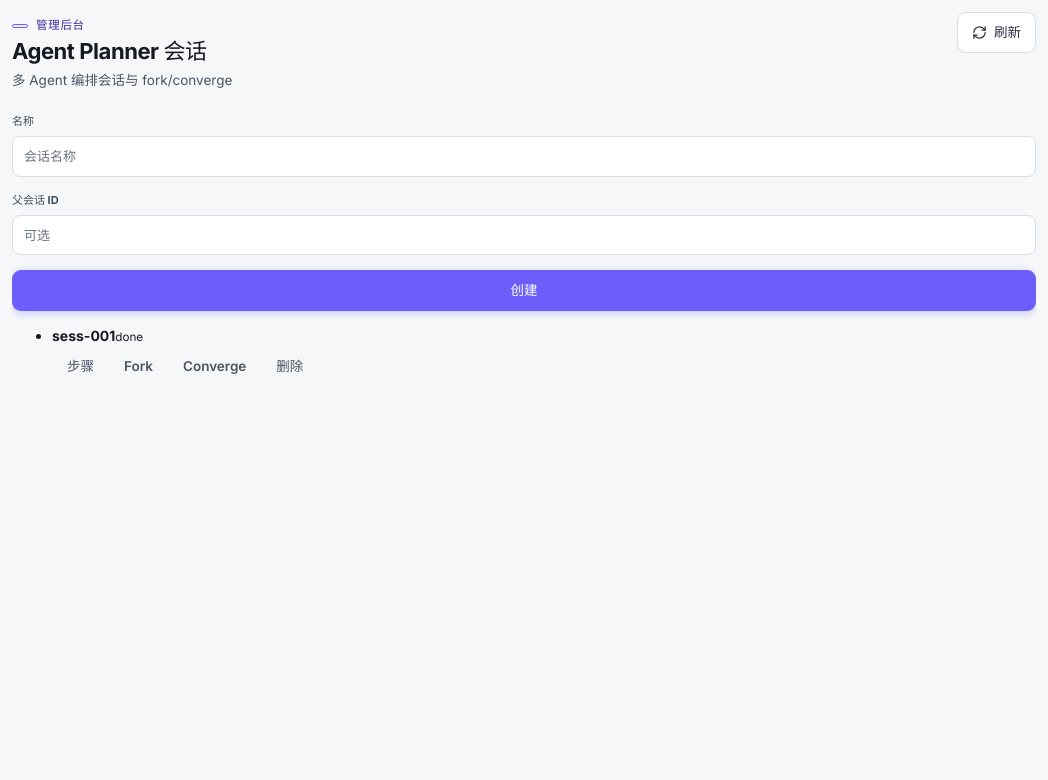
it: AdminAgentPlannerPage › 点击步骤按钮加载步骤列表
This screenshot has width=1048, height=780.
Click the button with test id "agent-planner-steps-s-1" at (80, 367), box [52,346,109,387]
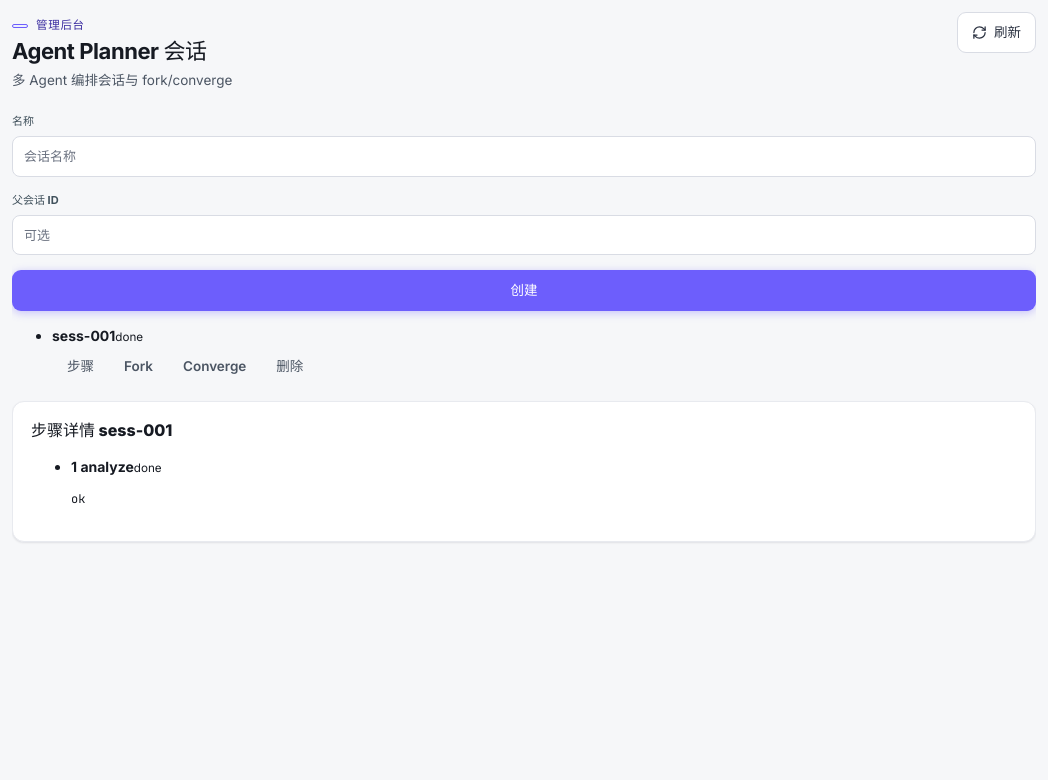
Now the element with test id "agent-planner-steps-panel" is shown, box [12,401,1036,542]
Now the list item with test id "agent-planner-step" is shown, box [71,458,162,506]
Now the text "1 analyze" is shown, box [71,458,134,475]
